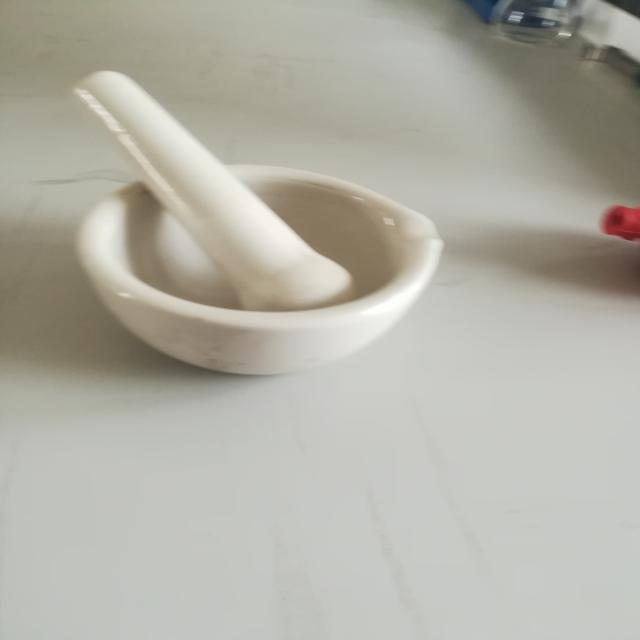Porcelain_Mortar Pestle: (39, 47, 482, 424)
